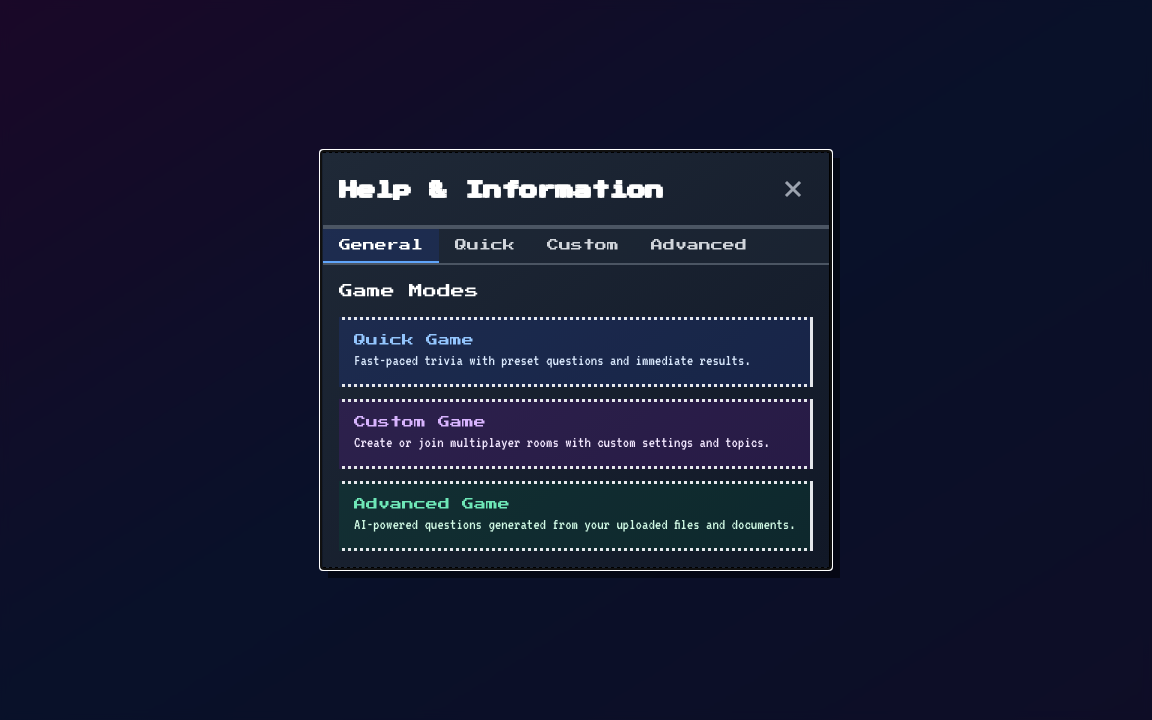
HelpModal › Tab Content › should switch to advanced tab content when clicked
Click the button "advanced" at (699, 246), box [635,229,763,263]
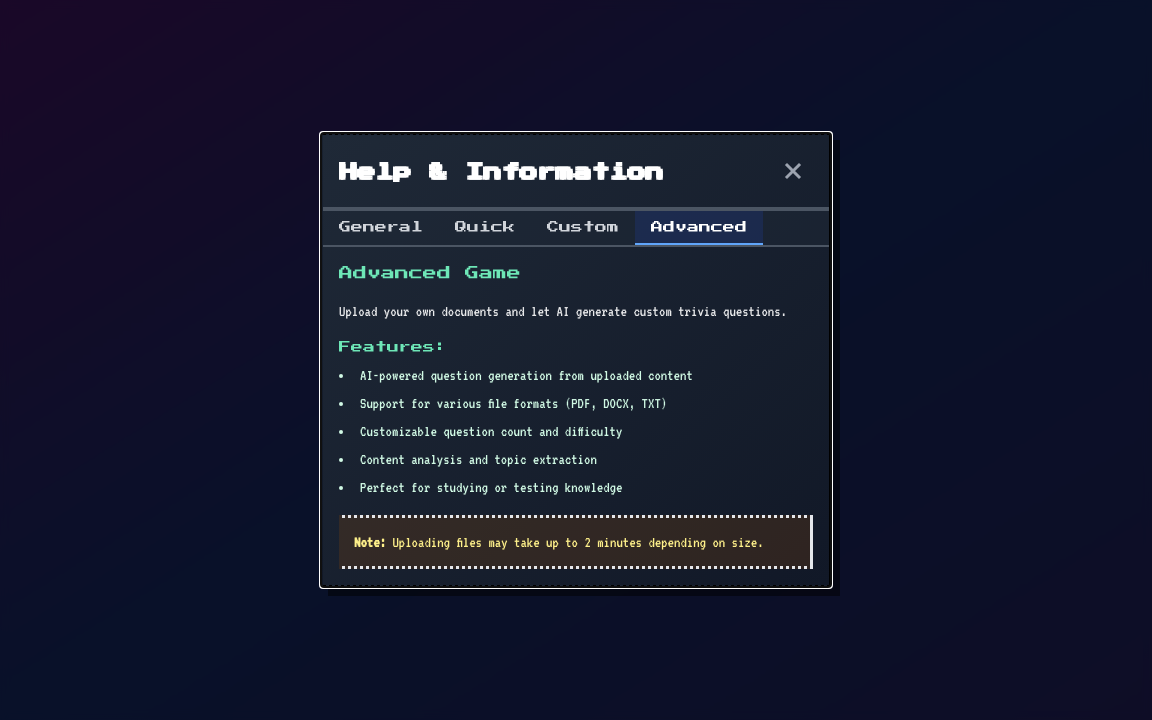
Expected: the heading "Advanced Game" is shown, [339,266,521,280]
Expected: the list item "AI-powered question generation from uploaded content" is shown, [360,367,693,383]
